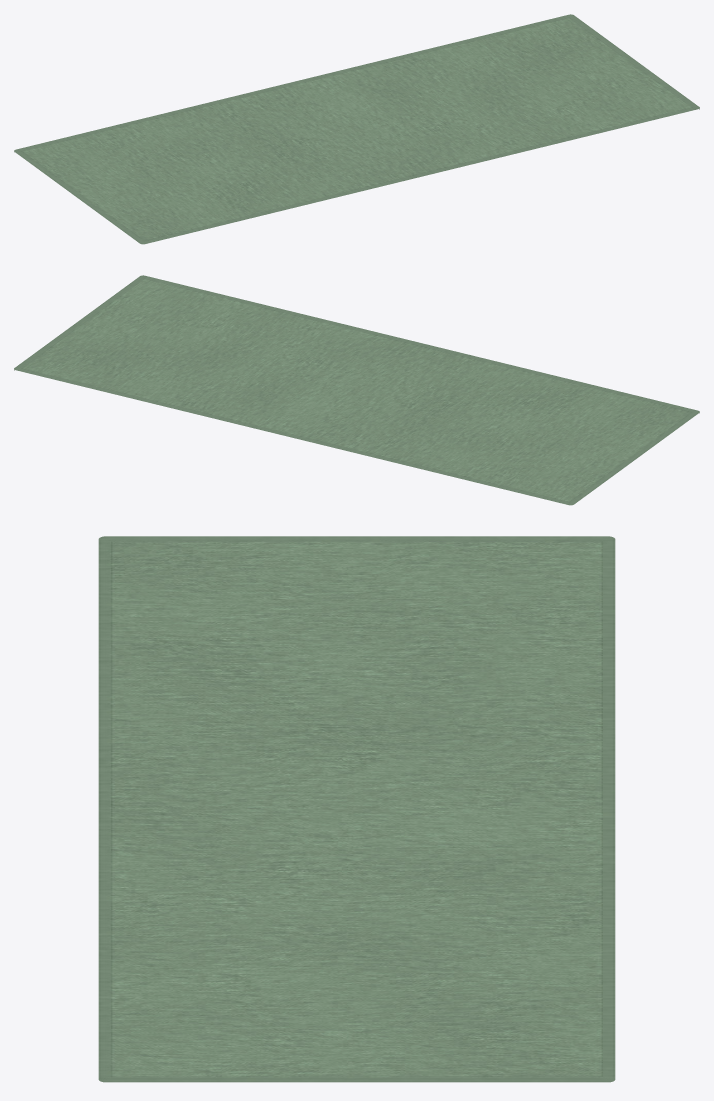
Rendered from green_hall_r90.glb.
3 renders of one model, top to bottom at view 1: azimuth 30°, elevation 25°; view 2: azimuth 150°, elevation 25°; view 3: azimuth 270°, elevation 25°, orthographic. The views are drawn at different scales.
Parts seen in each view (by area): view 1: reliv_green_hall_r90; view 2: reliv_green_hall_r90; view 3: reliv_green_hall_r90.
Boxes of the visible parts, left/top/right/bottom form: reliv_green_hall_r90: left=14, top=14, right=699, bottom=244; reliv_green_hall_r90: left=14, top=275, right=699, bottom=505; reliv_green_hall_r90: left=98, top=536, right=615, bottom=1082.
Size of the model in its own units: 2.5 by 0.009 by 1.
Materials: 2 (1 with a texture image).
